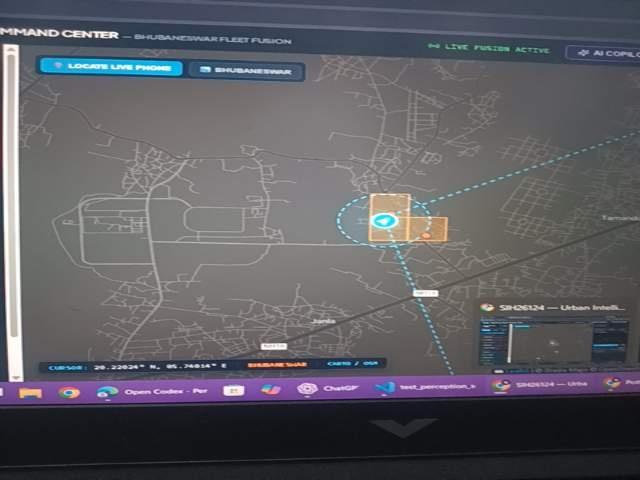pothole: (105, 404, 314, 480), (535, 406, 640, 480)
